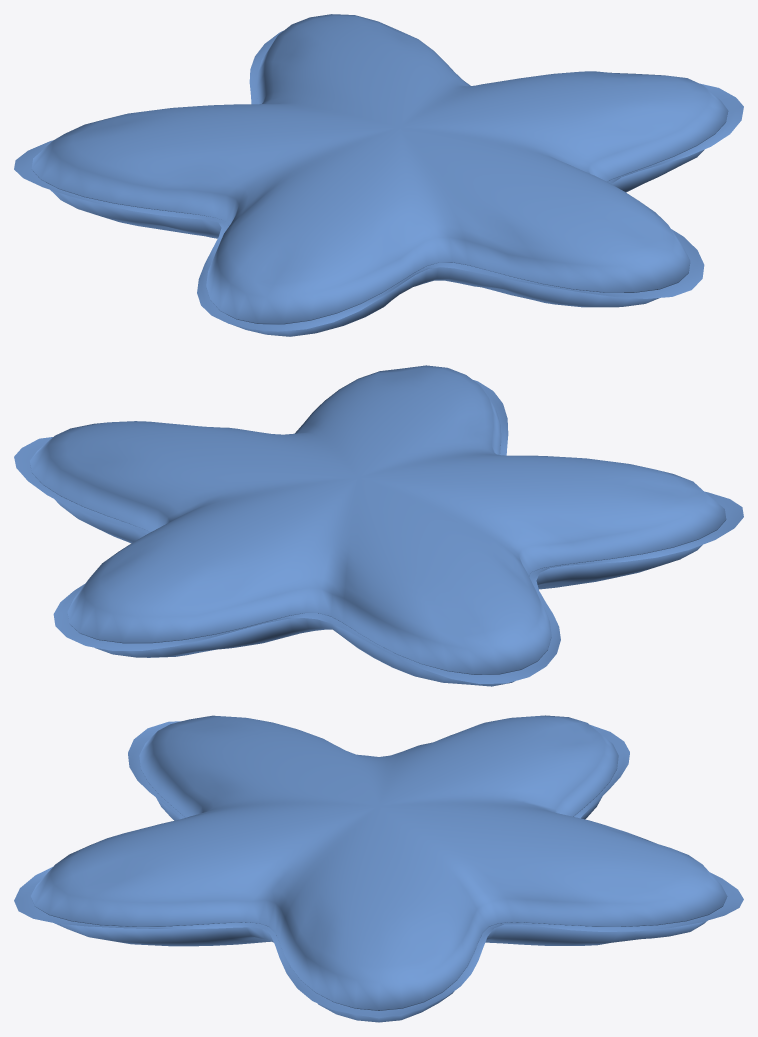
The model's file is star.glb.
3 views of the same model, one above another, from view 1: azimuth 30°, elevation 25°; view 2: azimuth 150°, elevation 25°; view 3: azimuth 270°, elevation 25° (orthographic).
Parts seen in each view (by area): view 1: star, star weld; view 2: star, star weld; view 3: star, star weld.
Boxes of the visible parts, left/top/right/bottom form: star: left=31, top=14, right=728, bottom=336; star weld: left=14, top=30, right=743, bottom=331; star: left=29, top=365, right=726, bottom=686; star weld: left=14, top=380, right=743, bottom=684; star: left=30, top=715, right=727, bottom=1022; star weld: left=14, top=721, right=743, bottom=1018.
Bounding box in the file's own units: 1.73 × 0.28 × 1.81.
